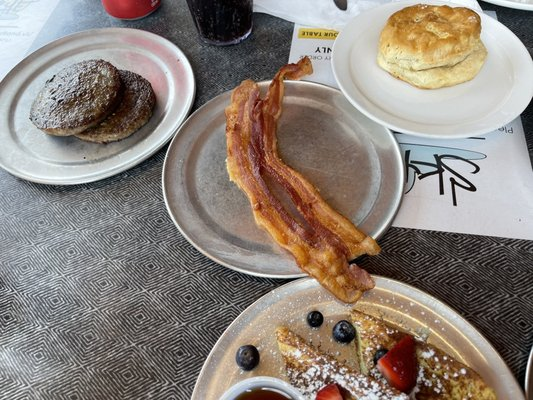pizza: (186, 0, 254, 47), (100, 0, 162, 21)
soup: (223, 61, 389, 305)
sushi: (190, 277, 521, 400)
